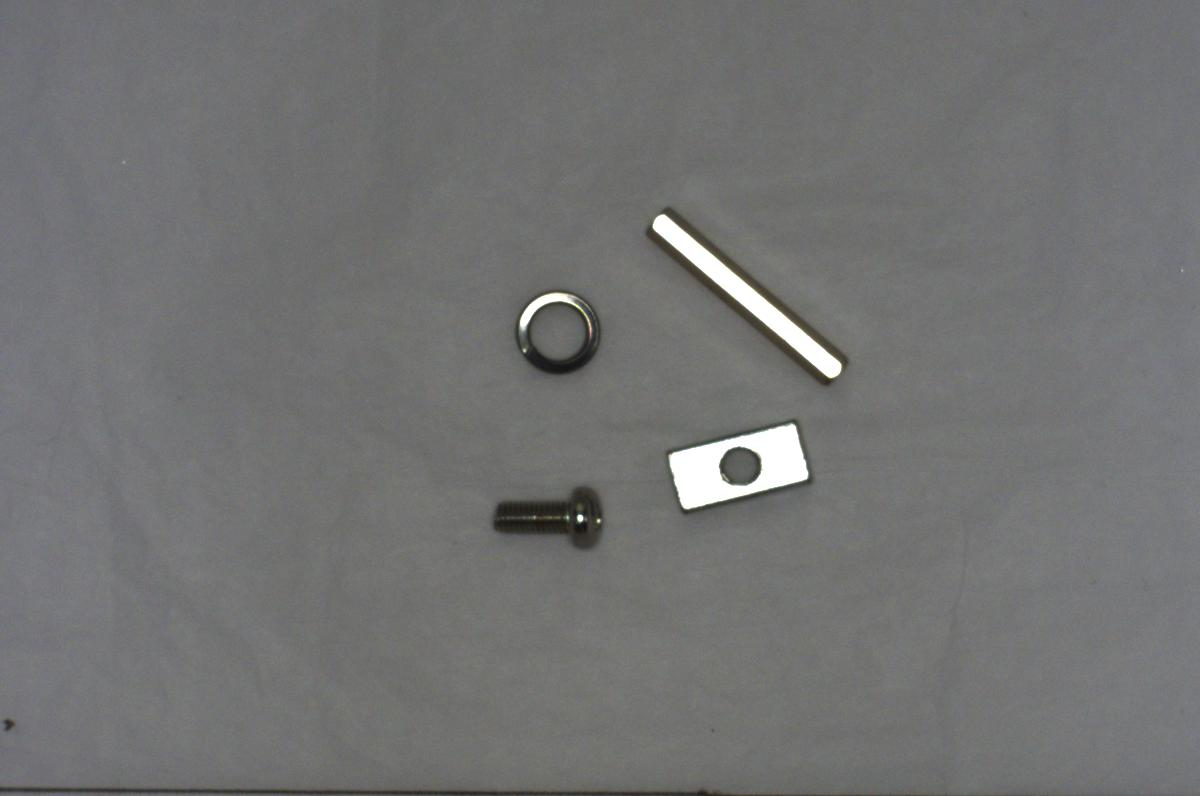Double hexagonal column: (639, 202, 858, 395)
Rectangular nut: (665, 410, 814, 513)
Round head screw: (485, 475, 610, 554)
Spring washer: (510, 282, 602, 376)
